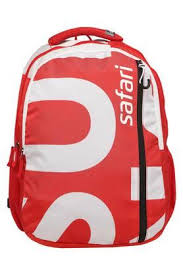backpack: (6, 26, 176, 248)
